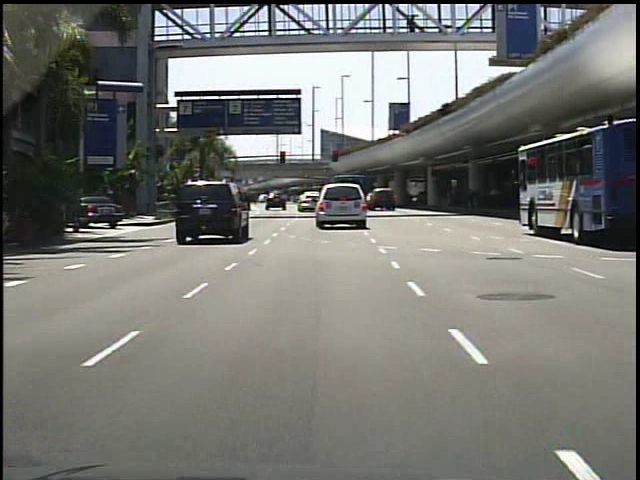person: (399, 15, 418, 43)
